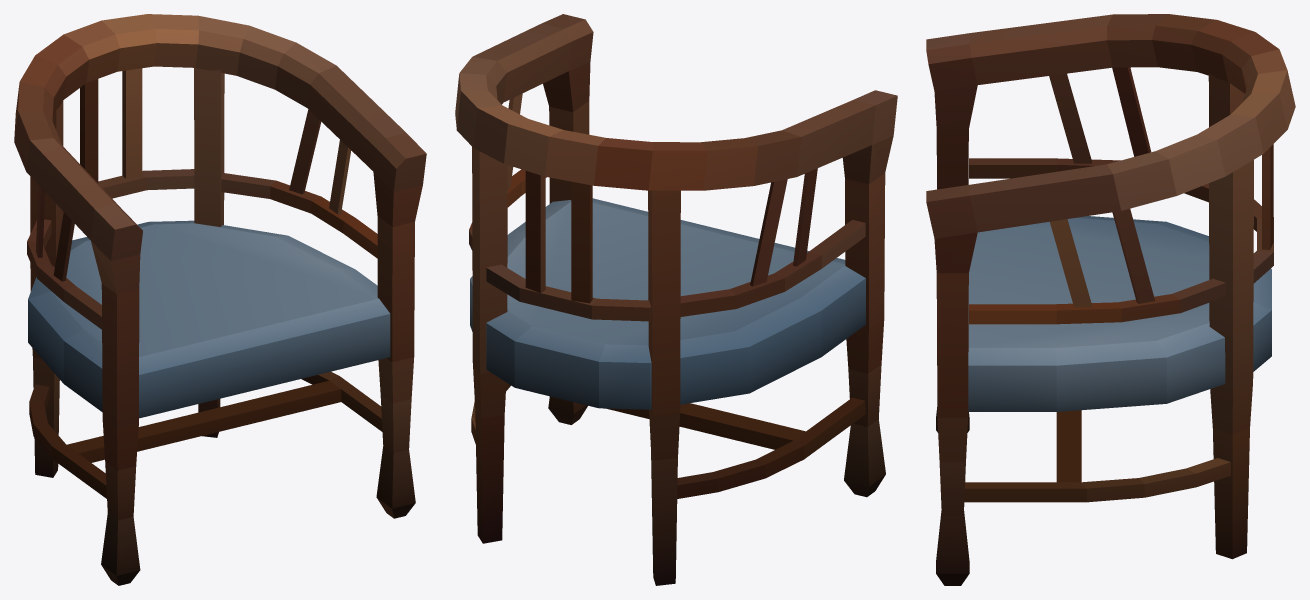
The model's file is Furniture_ChairA.fbx.
The picture shows the model from 3 angles, left to right: view 1: azimuth 30°, elevation 25°; view 2: azimuth 150°, elevation 25°; view 3: azimuth 270°, elevation 25°; orthographic projection. The views are drawn at different scales.
Parts seen in each view (by area): view 1: Furniture_ChairA; view 2: Furniture_ChairA; view 3: Furniture_ChairA.
Boxes of the visible parts, x1,y1,x2,y2 form: Furniture_ChairA: (14, 14, 426, 585); Furniture_ChairA: (455, 14, 897, 585); Furniture_ChairA: (926, 14, 1295, 585).
Bounding box in the file's own units: 87.15 × 110 × 83.7.
